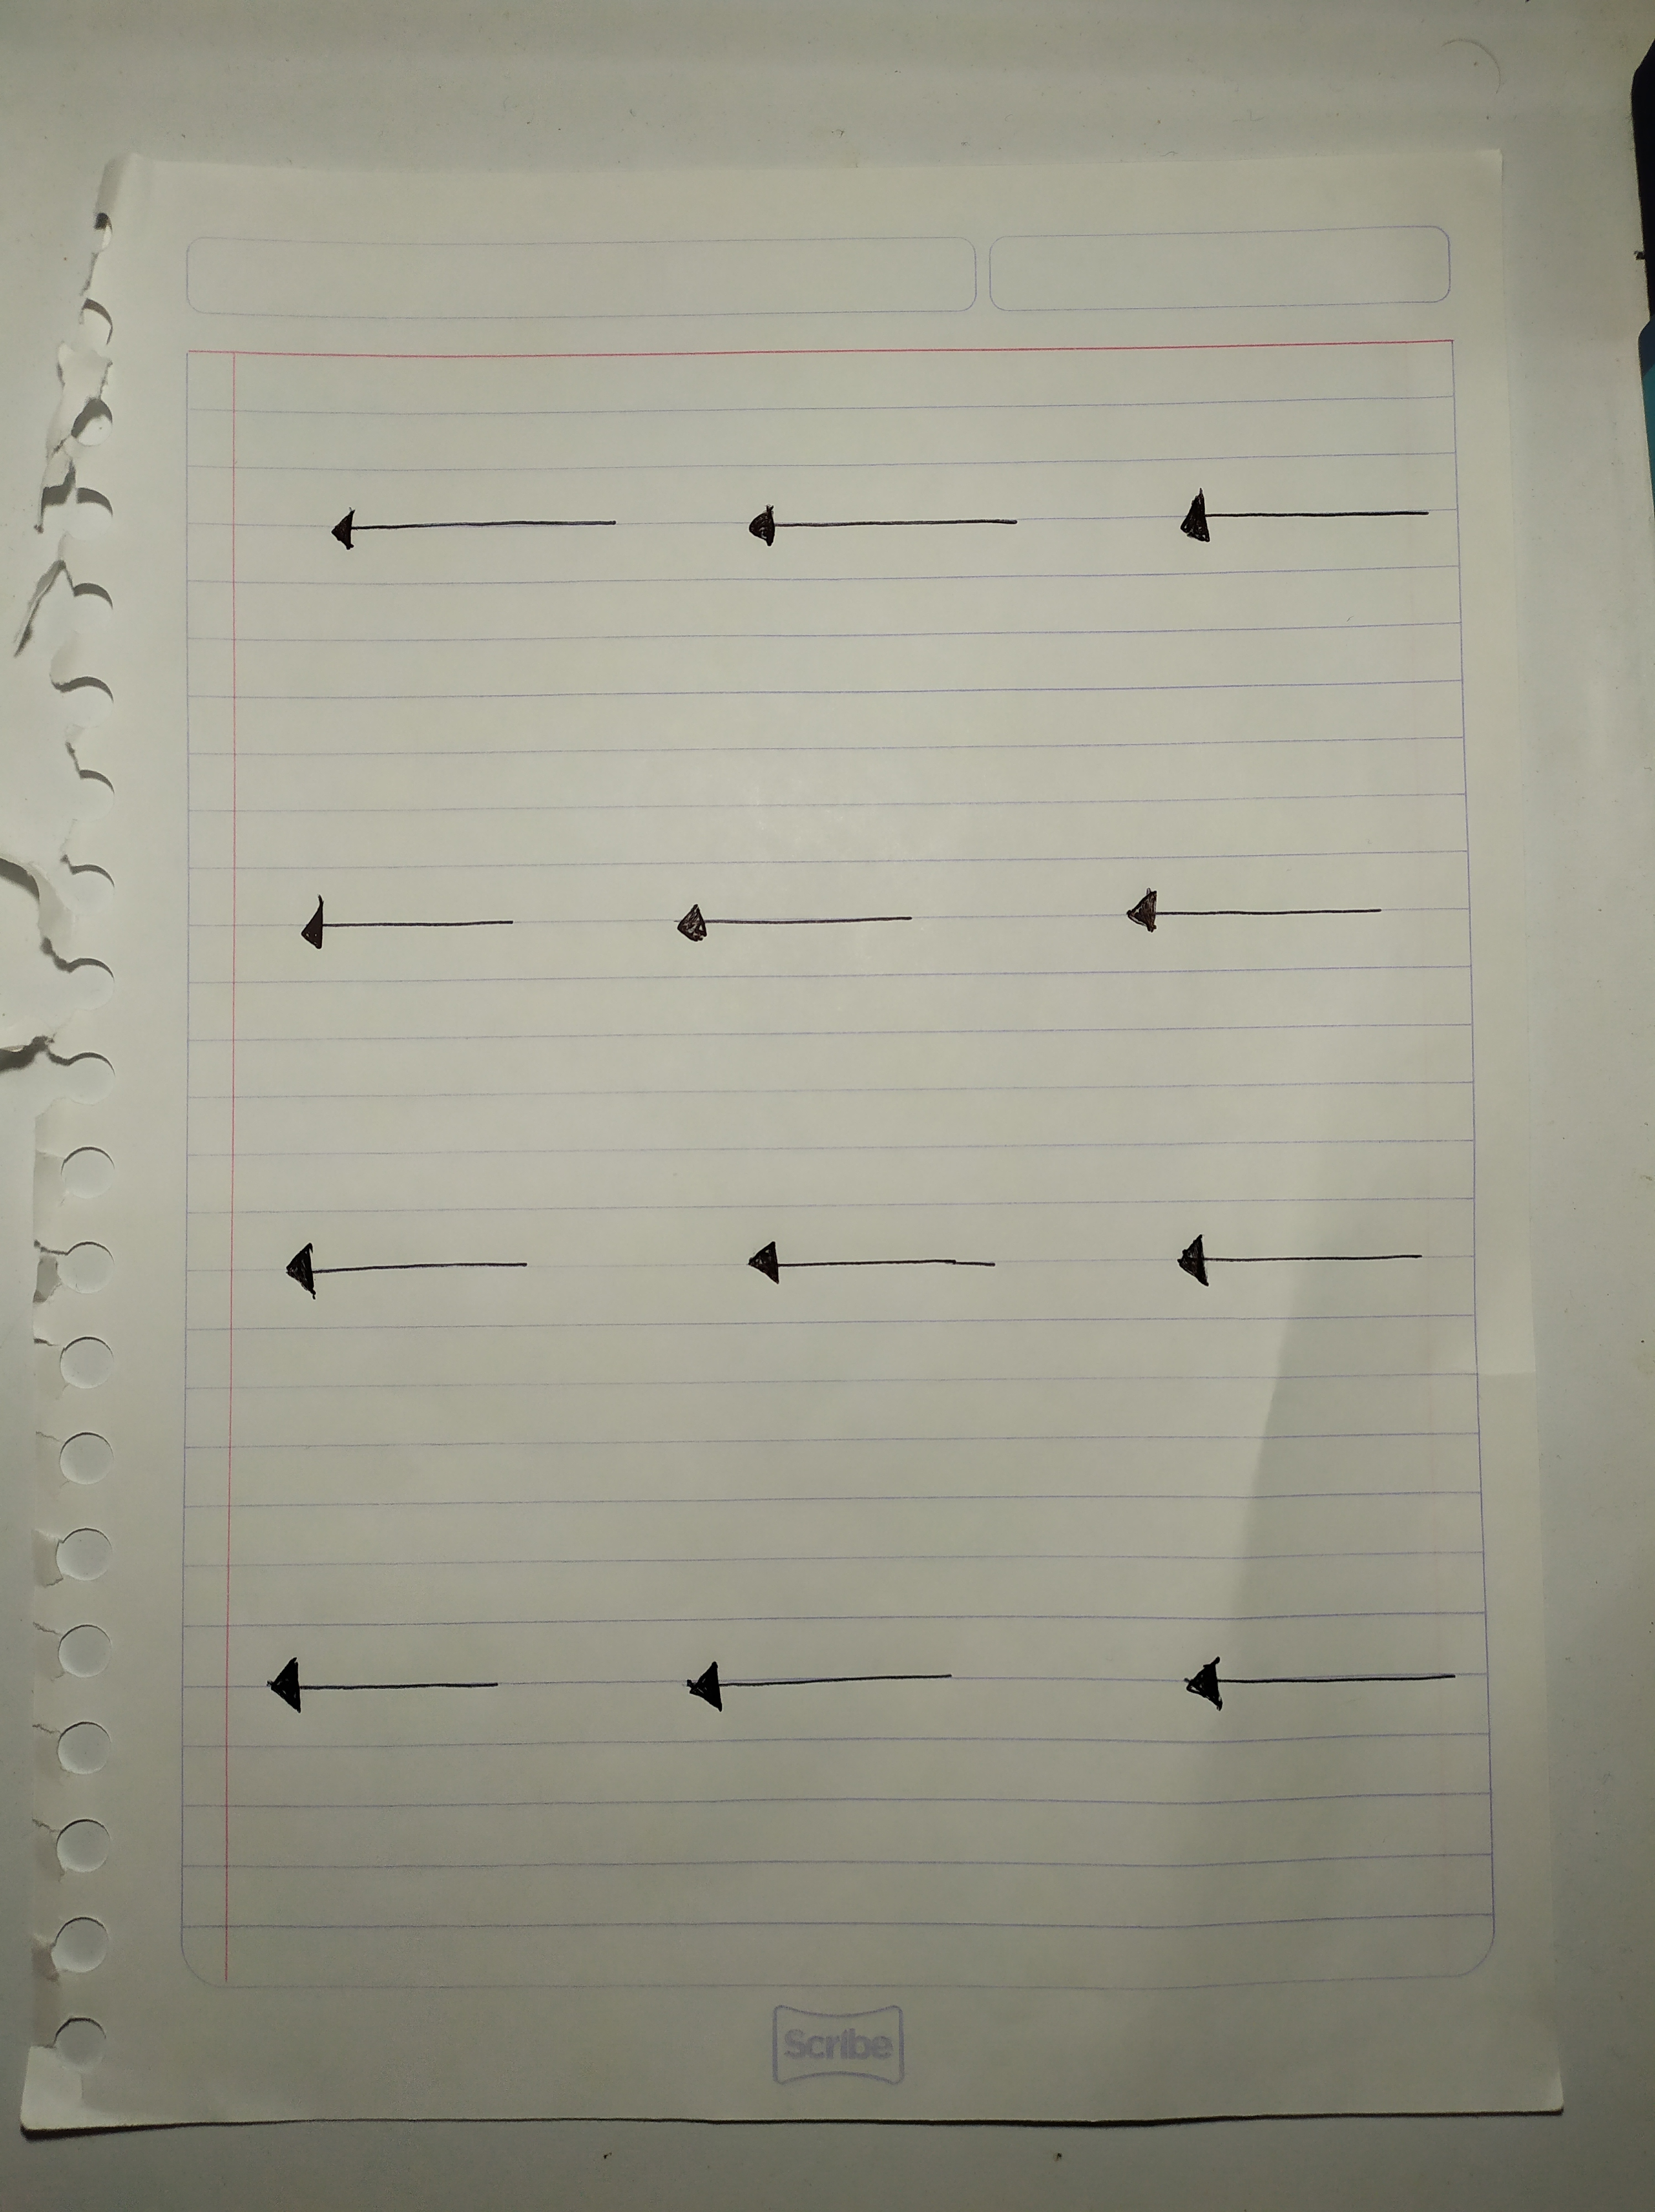arrow_line_left: (709, 490, 1069, 580), (643, 1639, 993, 1725), (1154, 1639, 1471, 1732), (1151, 481, 1457, 575), (716, 1222, 1043, 1308), (290, 495, 645, 573), (648, 879, 953, 968), (1153, 1222, 1443, 1314), (1090, 878, 1410, 961), (236, 1647, 539, 1731), (271, 890, 560, 977), (264, 1237, 600, 1308)
